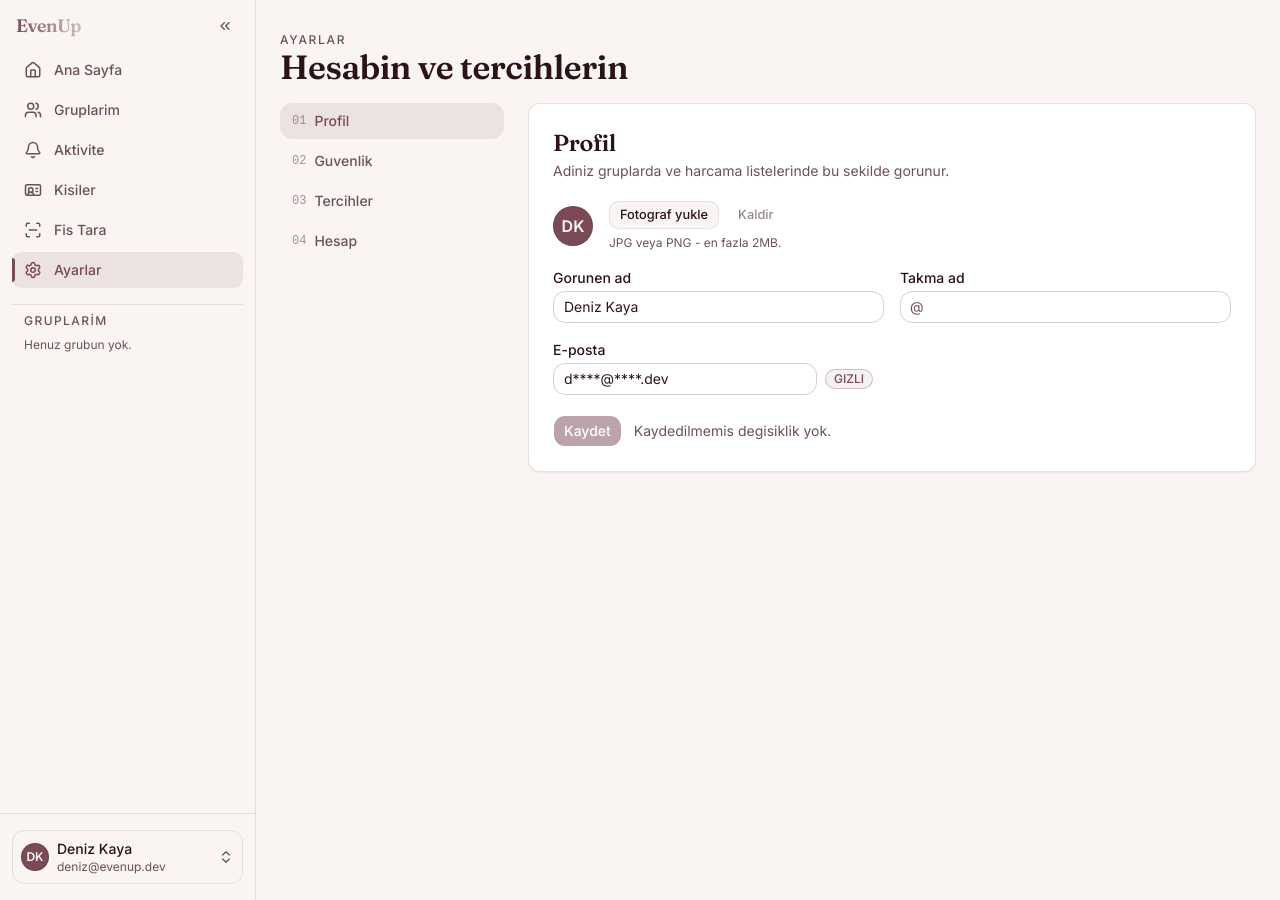
Test: Ayarlar > profil › takma ad baskasi tarafindan alinmissa backend 409 hatasi alan altinda gosterilir
The width and height of the screenshot is (1280, 900).
In the field labelled "Takma ad": (1066, 307) [900, 291, 1231, 323], type "meraba"
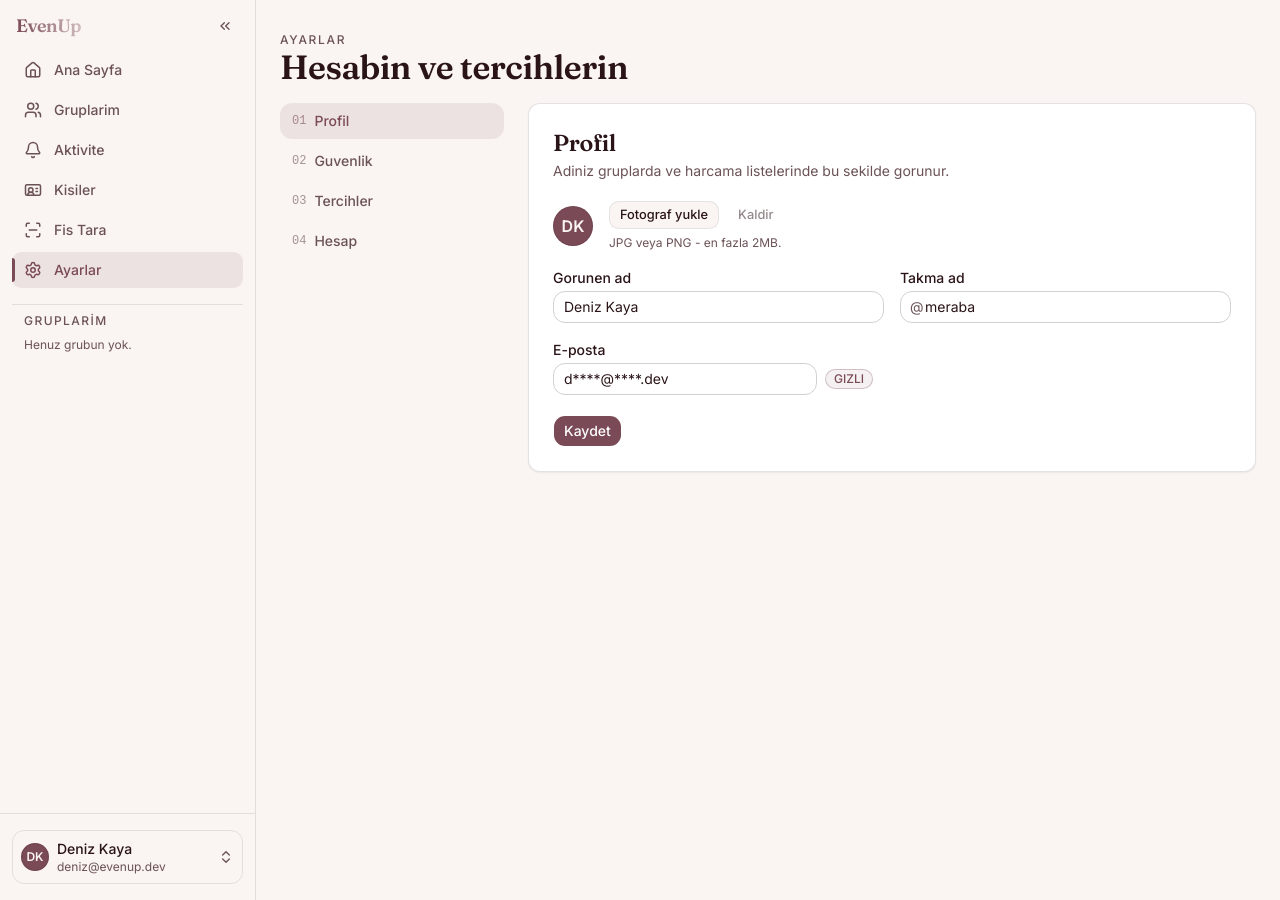
Click the button "Kaydet": (587, 431) [553, 415, 622, 447]
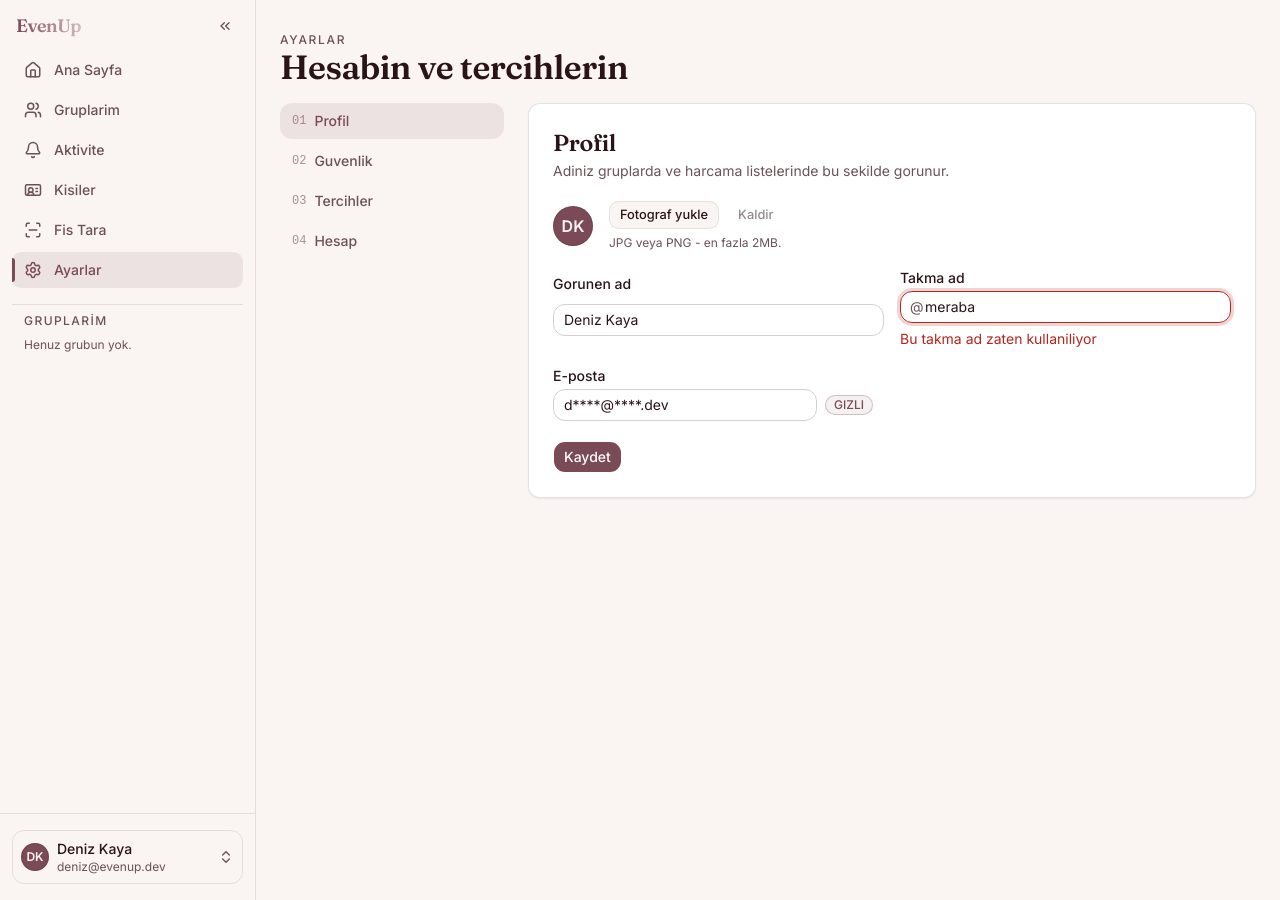
Check: the text "Bu takma ad zaten kullaniliyor" is shown, box [900, 330, 1097, 347]
